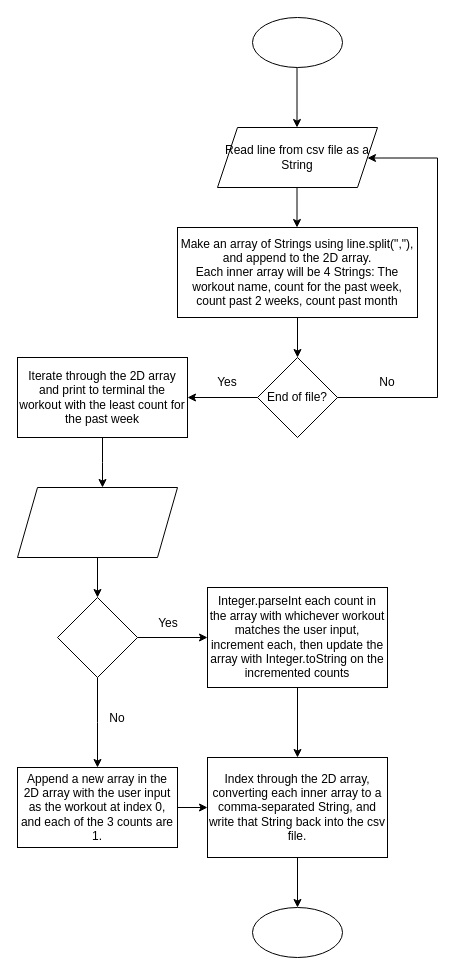
This 463x975 diagram has some shape labels left out. Each missing label, with the centre of its shape:
"End" goes at (x=297, y=932).
"Read input from terminal for which workout the user is doing today" goes at (x=97, y=522).
"Start" goes at (x=297, y=42).
"Workout exists?" goes at (x=97, y=637).
